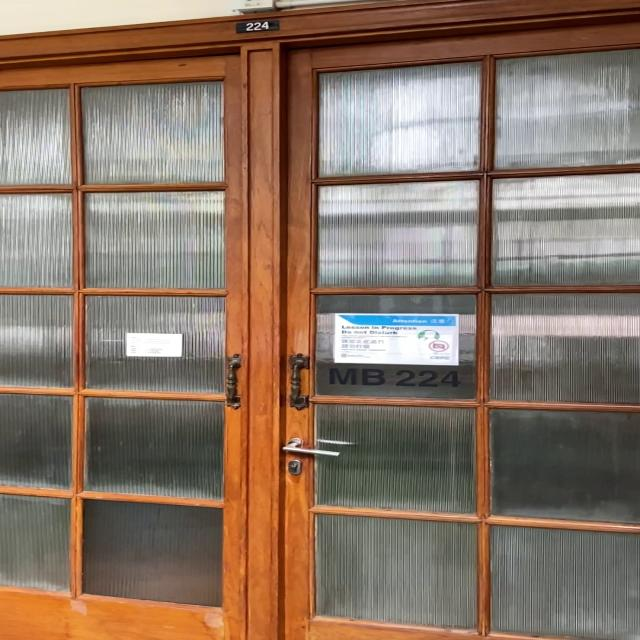room224: (233, 18, 280, 34)
room224Window: (322, 366, 468, 391)
